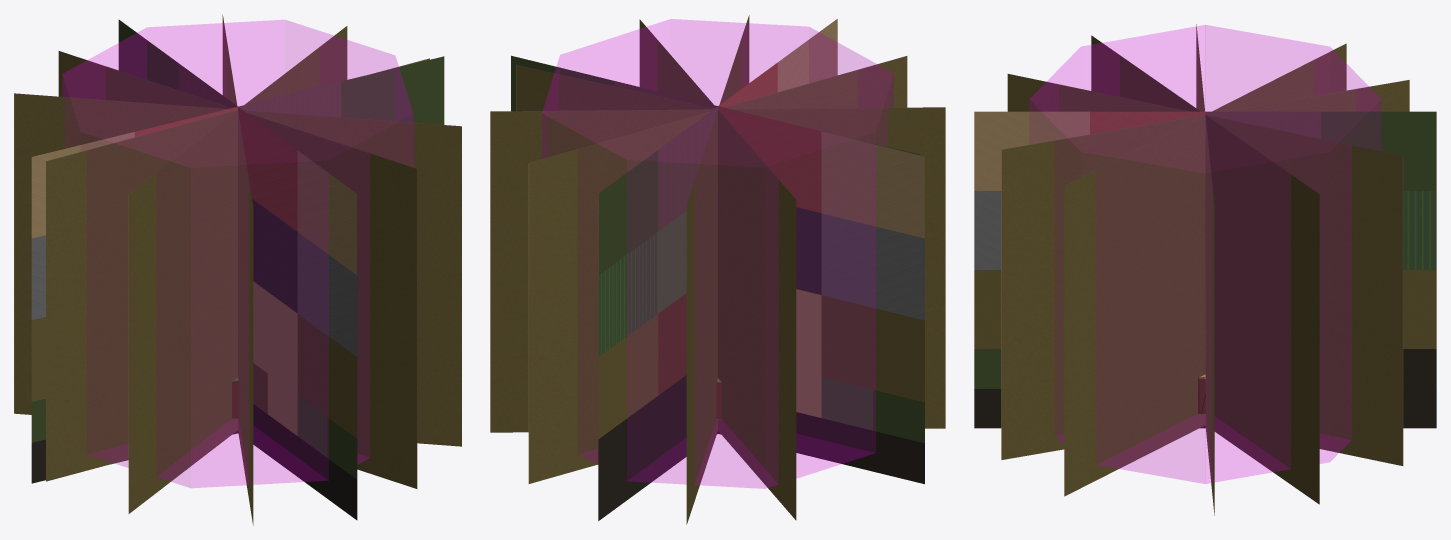
Rendered from scrub_med.dae.
The picture shows the model from 3 angles, left to right: view 1: azimuth 30°, elevation 25°; view 2: azimuth 150°, elevation 25°; view 3: azimuth 270°, elevation 25°; orthographic projection. The views are drawn at different scales.
Parts seen in each view (by area): view 1: scrub_med_a800, Colmesh_scrub-1, scrub_med_a200, scrub_med_a50; view 2: Colmesh_scrub-1, scrub_med_a800, scrub_med_a50, scrub_med_a200; view 3: scrub_med_a800, Colmesh_scrub-1, scrub_med_a200, scrub_med_a50.
Part boxes in pixels (x1,y1,x2,y2): scrub_med_a800: (14,16,461,525); Colmesh_scrub-1: (62,20,413,487); scrub_med_a200: (14,14,461,521); scrub_med_a50: (31,19,444,520); Colmesh_scrub-1: (542,19,893,488); scrub_med_a800: (490,15,945,524); scrub_med_a50: (511,19,924,520); scrub_med_a200: (516,16,919,522); scrub_med_a800: (1001,25,1409,515); Colmesh_scrub-1: (1029,25,1381,483); scrub_med_a200: (1001,24,1409,514); scrub_med_a50: (974,111,1436,428).
Size of the model in its own units: 0.9442 by 0.9442 by 0.742.
2 materials, 1 textured.
